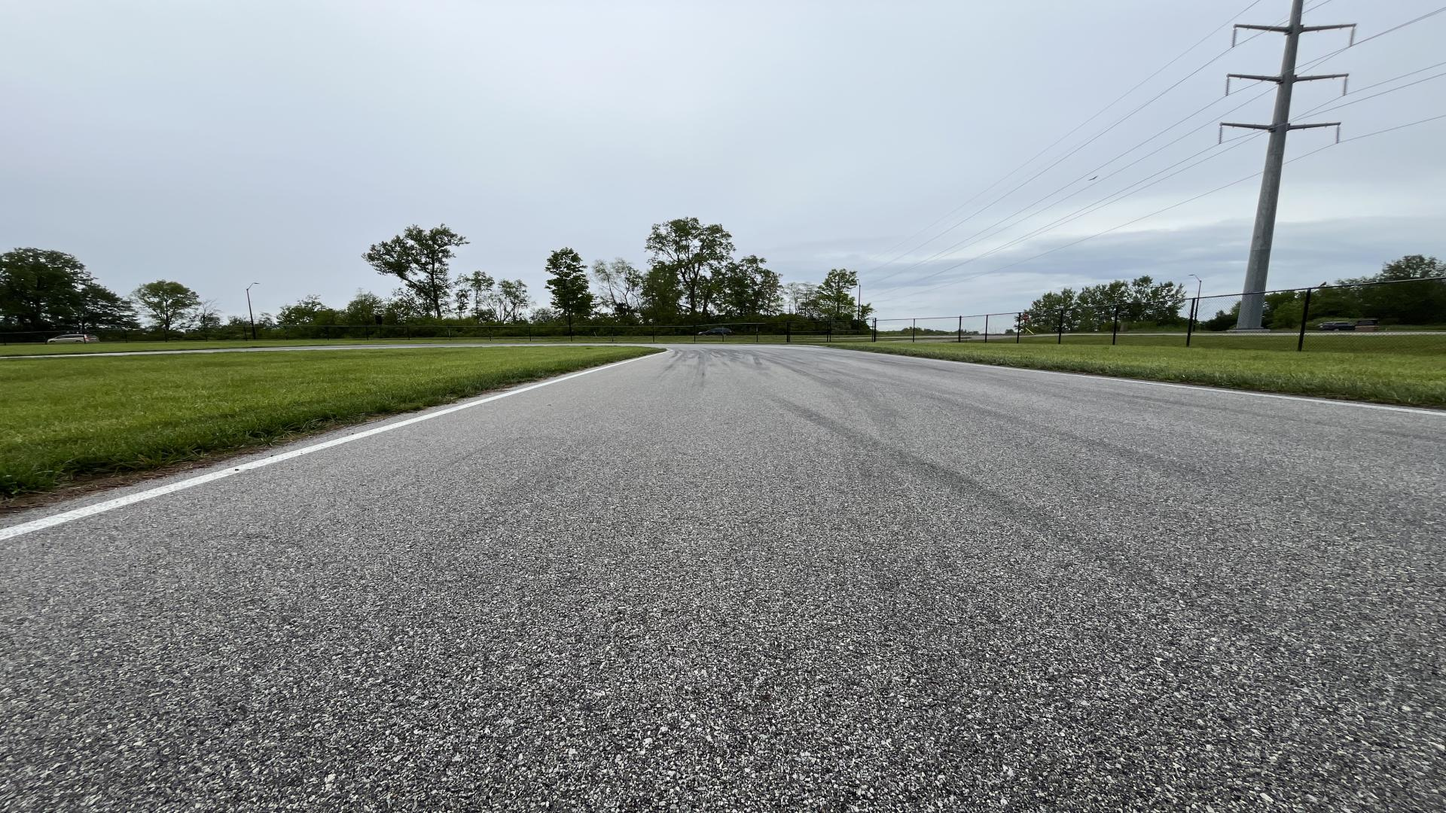white-line: (0, 348, 672, 542), (770, 345, 1445, 416)
